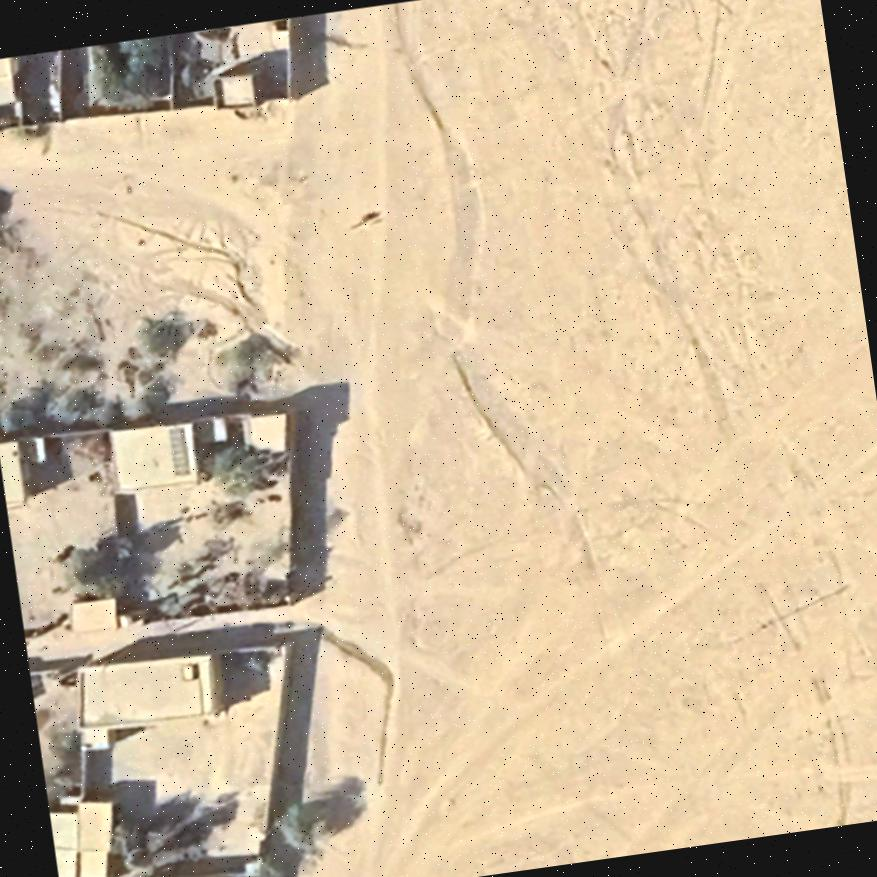Solarpanel: (166, 420, 195, 481)
